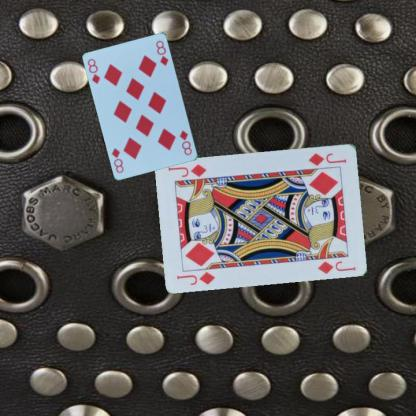8d: (85, 56, 102, 85), (178, 128, 194, 156)
Jd: (306, 150, 348, 167), (174, 269, 216, 286)
